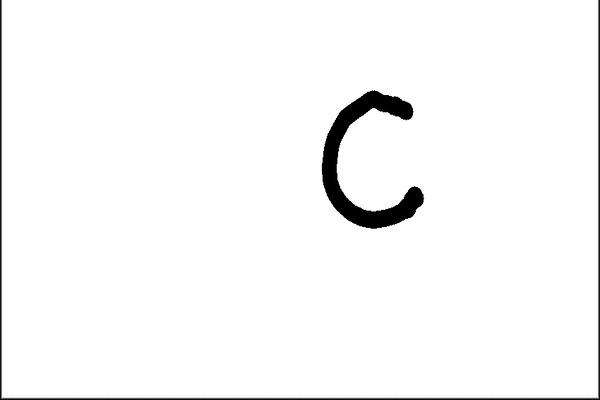C: (318, 84, 430, 231)
